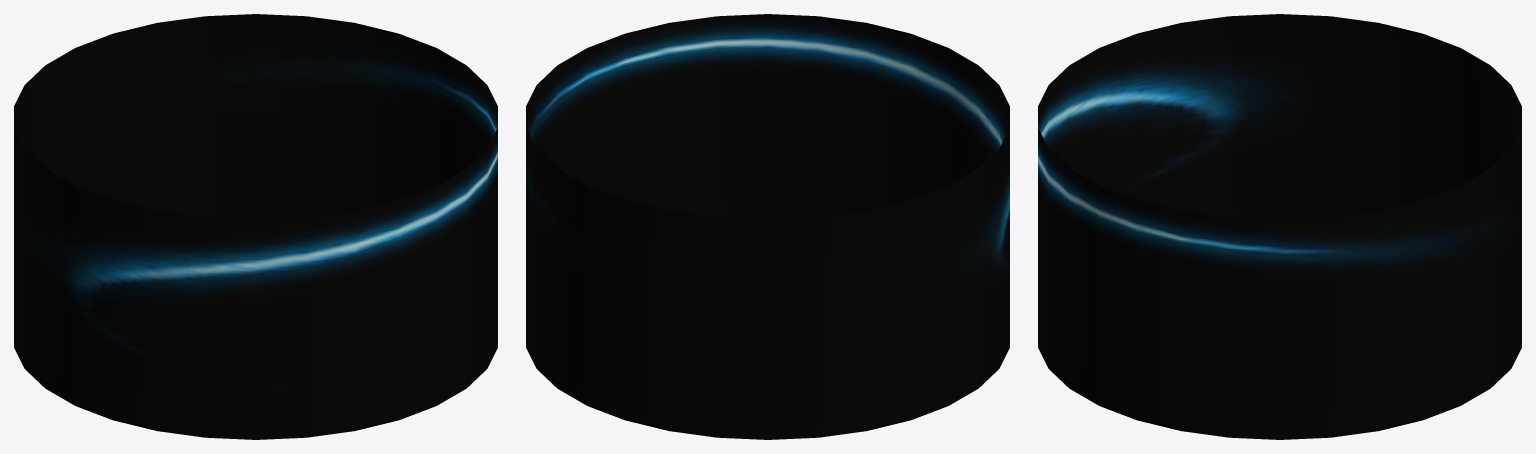
The model's file is 0352_kailudioujuewu_01.glb.
3 views of the same model, side by side, from view 1: azimuth 30°, elevation 25°; view 2: azimuth 150°, elevation 25°; view 3: azimuth 270°, elevation 25° (orthographic).
Size of the model in its own units: 2.2 by 1.1 by 2.19.
1 material, 1 textured.
